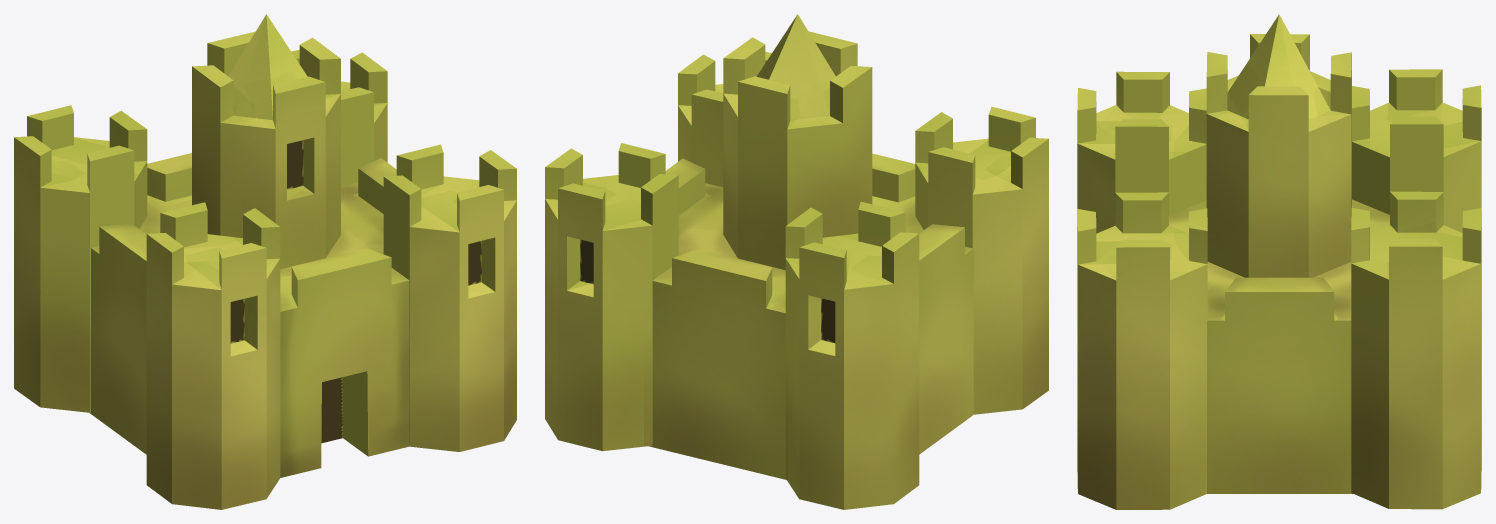
File: CastilloArena.glb
3 views of the same model, side by side, from view 1: azimuth 30°, elevation 25°; view 2: azimuth 150°, elevation 25°; view 3: azimuth 270°, elevation 25° (orthographic). The views are drawn at different scales.
Visible parts, largest first — view 1: Castillo de arena; view 2: Castillo de arena; view 3: Castillo de arena.
Part boxes in pixels (bbox=[...]): Castillo de arena: bbox=[14, 14, 516, 509]; Castillo de arena: bbox=[545, 14, 1048, 509]; Castillo de arena: bbox=[1077, 14, 1481, 509].
Size of the model in its own units: 41.6 by 44.65 by 40.04.
4 materials, 4 textured.
